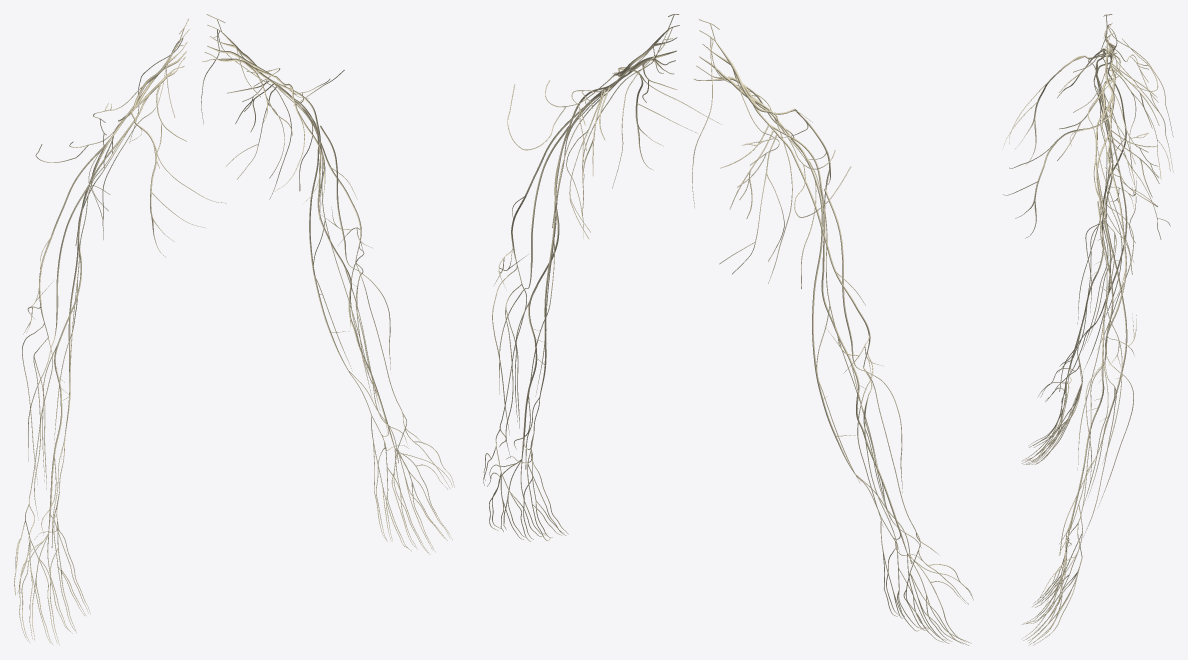
The model's file is z-nervous-upper-limbs.glb.
The picture shows the model from 3 angles, left to right: view 1: azimuth 30°, elevation 25°; view 2: azimuth 150°, elevation 25°; view 3: azimuth 270°, elevation 25°; orthographic projection. The views are drawn at different scales.
Visible parts, largest first — view 1: nervous-median-nerve-right, nervous-median-nerve-left, nervous-z-dorsal-digital-branches-of-radial-nerve-left, nervous-z-dorsal-digital-branches-of-radial-nerve-right, nervous-ulnar-nerve-left, nervous-ulnar-nerve-right; view 2: nervous-median-nerve-right, nervous-ulnar-nerve-right, nervous-ulnar-nerve-left, nervous-median-nerve-left; view 3: nervous-median-nerve-left, nervous-ulnar-nerve-left, nervous-z-dorsal-digital-branches-of-radial-nerve-left, nervous-median-nerve-right, nervous-ulnar-nerve-right, nervous-z-proper-palmar-digital-branches-of-median-nerve-lef, nervous-lateral-pectoral-nerve-right, nervous-lateral-pectoral-nerve-left, nervous-radial-nerve-left, nervous-z-dorsal-digital-branches-of-radial-nerve-right, nervous-z-superficial-branch-of-radial-nerve-left, nervous-z-proper-palmar-digital-branches-of-median-nerve-rig (+4 smaller).
Part boxes in pixels (<box>): nervous-median-nerve-right: <box>48,114,127,532</box>; nervous-median-nerve-left: <box>271,79,394,448</box>; nervous-z-dorsal-digital-branches-of-radial-nerve-left: <box>391,441,454,552</box>; nervous-z-dorsal-digital-branches-of-radial-nerve-right: <box>14,537,68,643</box>; nervous-ulnar-nerve-left: <box>273,82,371,415</box>; nervous-ulnar-nerve-right: <box>59,111,139,491</box>; nervous-median-nerve-right: <box>769,124,907,553</box>; nervous-ulnar-nerve-right: <box>769,112,881,517</box>; nervous-ulnar-nerve-left: <box>533,75,625,431</box>; nervous-median-nerve-left: <box>521,86,607,458</box>; nervous-median-nerve-left: <box>1066,130,1111,543</box>; nervous-ulnar-nerve-left: <box>1078,121,1127,503</box>; nervous-z-dorsal-digital-branches-of-radial-nerve-left: <box>1026,556,1082,645</box>; nervous-median-nerve-right: <box>1066,62,1111,379</box>; nervous-ulnar-nerve-right: <box>1078,60,1127,356</box>; nervous-z-proper-palmar-digital-branches-of-median-nerve-lef: <box>1021,552,1065,645</box>; nervous-lateral-pectoral-nerve-right: <box>1002,55,1101,165</box>; nervous-lateral-pectoral-nerve-left: <box>1003,123,1101,238</box>; nervous-radial-nerve-left: <box>1104,140,1126,362</box>; nervous-z-dorsal-digital-branches-of-radial-nerve-right: <box>1026,368,1081,463</box>; nervous-z-superficial-branch-of-radial-nerve-left: <box>1059,363,1104,557</box>; nervous-z-proper-palmar-digital-branches-of-median-nerve-rig: <box>1021,382,1064,463</box>.
Bounding box in the file's own units: 0.6466 × 0.7743 × 0.2251.
